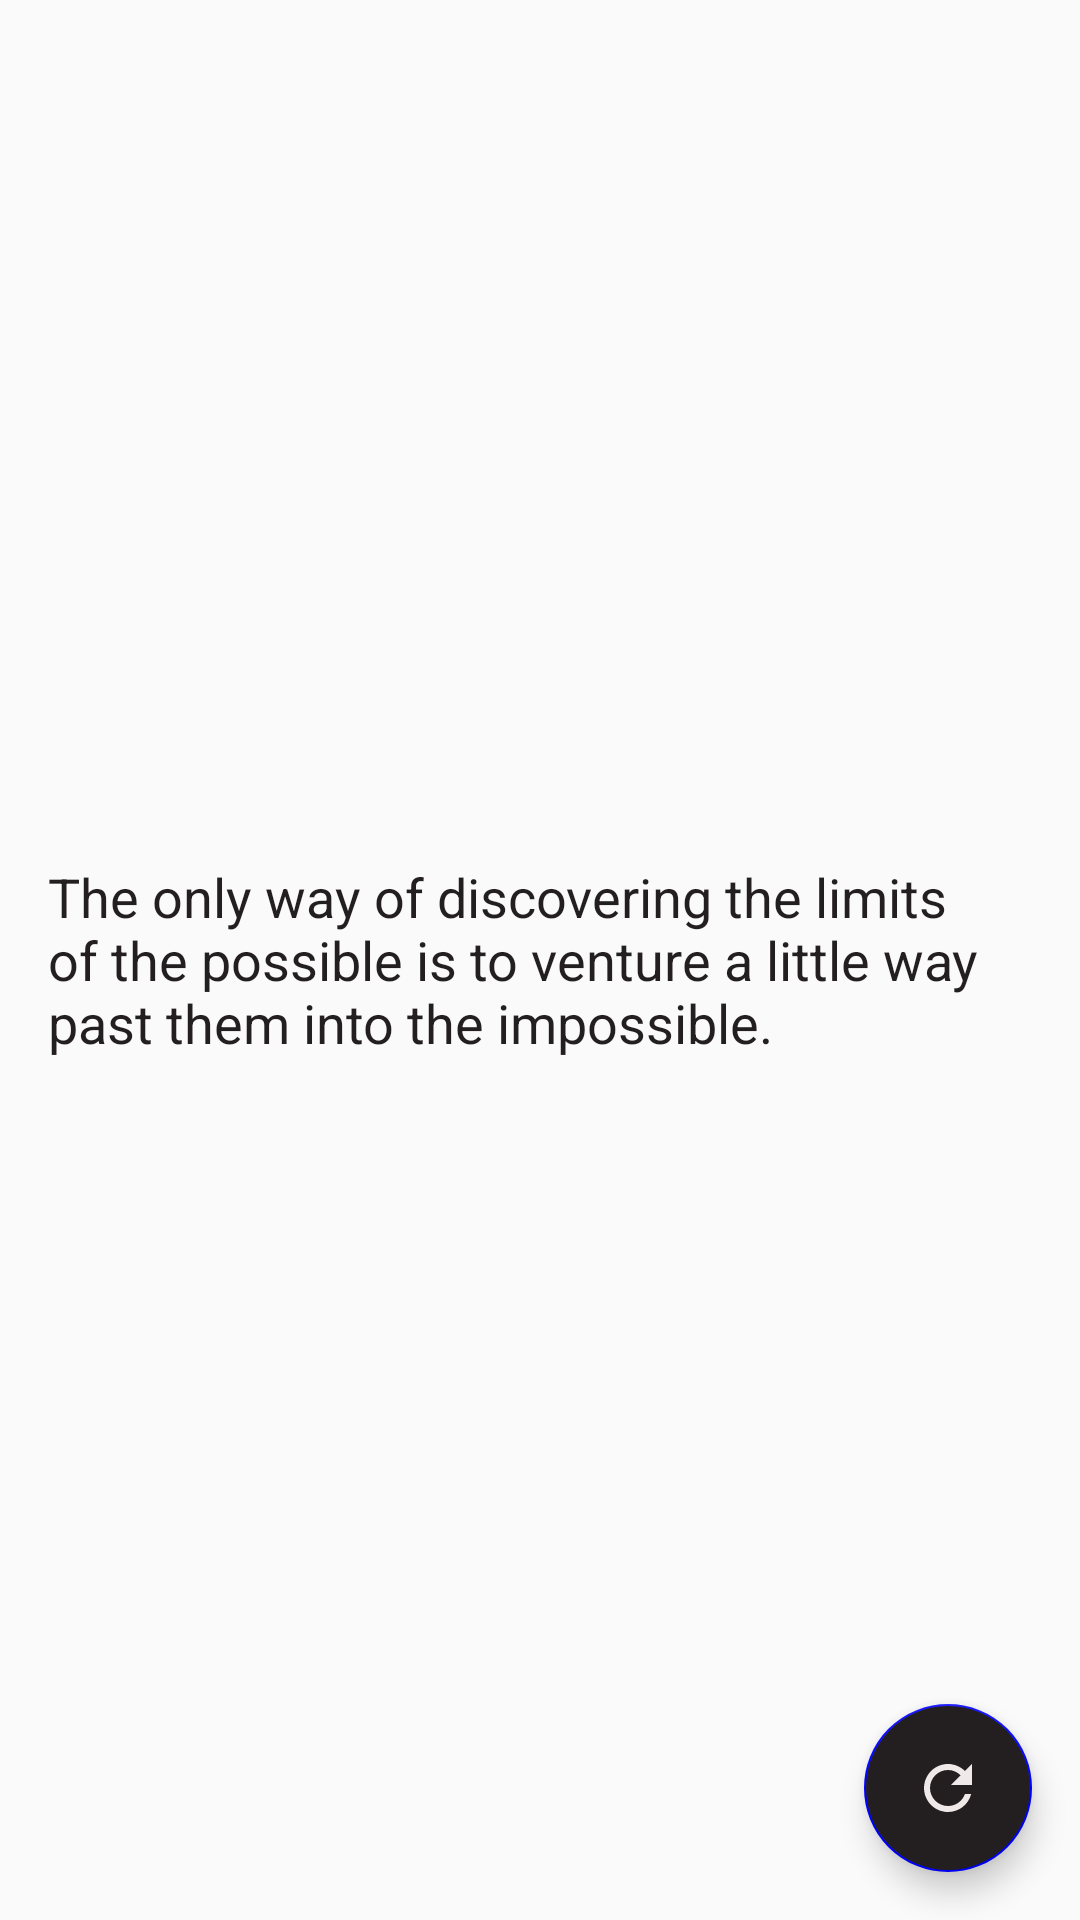

Icons on this 1080 × 1920 Android screen, each with its box as (x1, y1, x2, y2):
refresh: (864, 1704, 1032, 1872)
